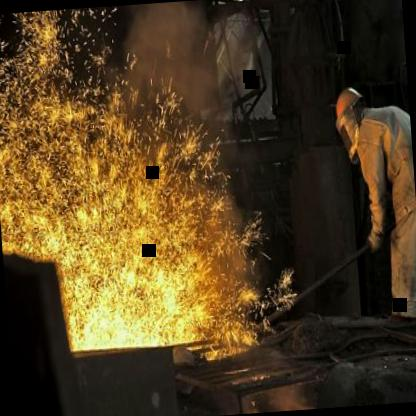helmet: (329, 82, 375, 146)
